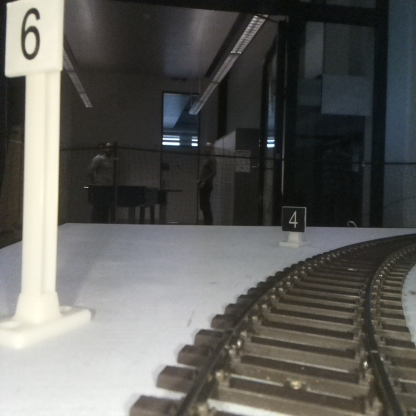black-stop-4: (282, 206, 305, 246)
white-info-6: (4, 0, 62, 340)
